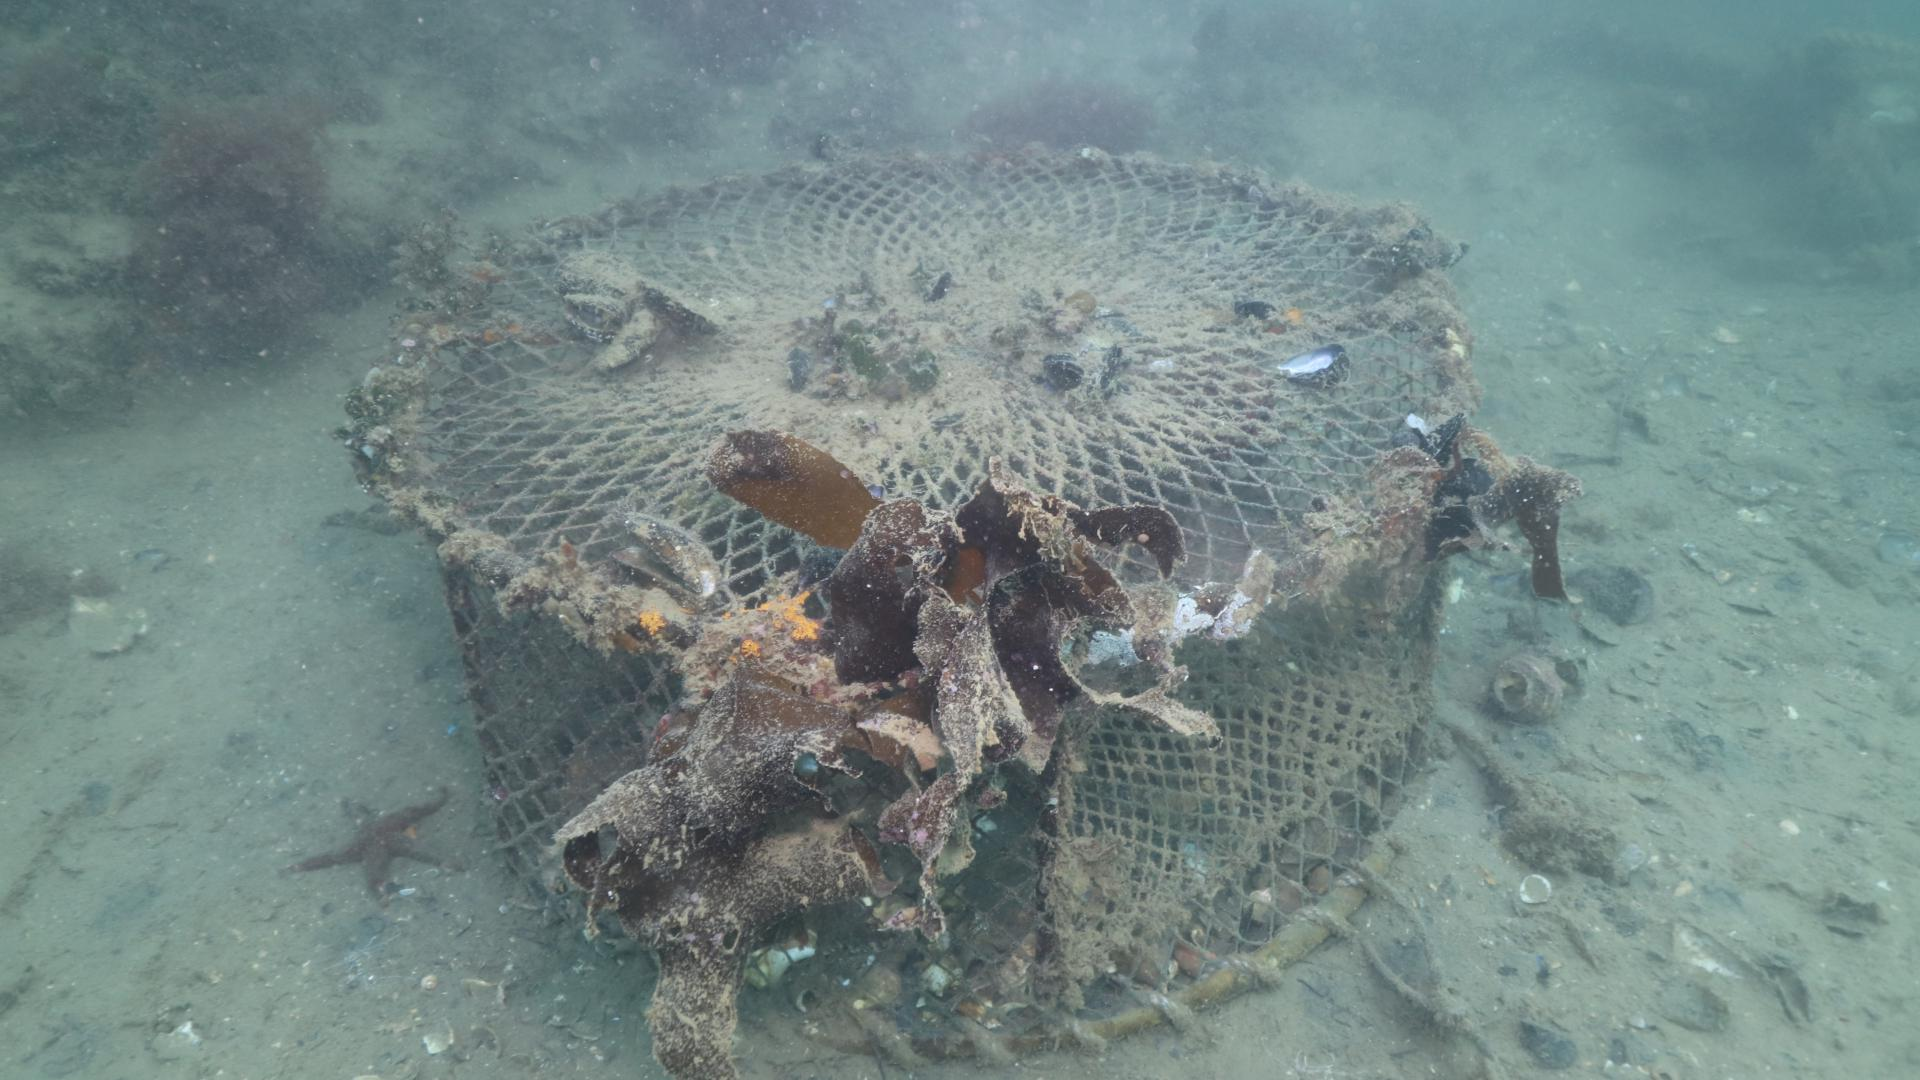circular fish trap: (363, 145, 1468, 1058)
